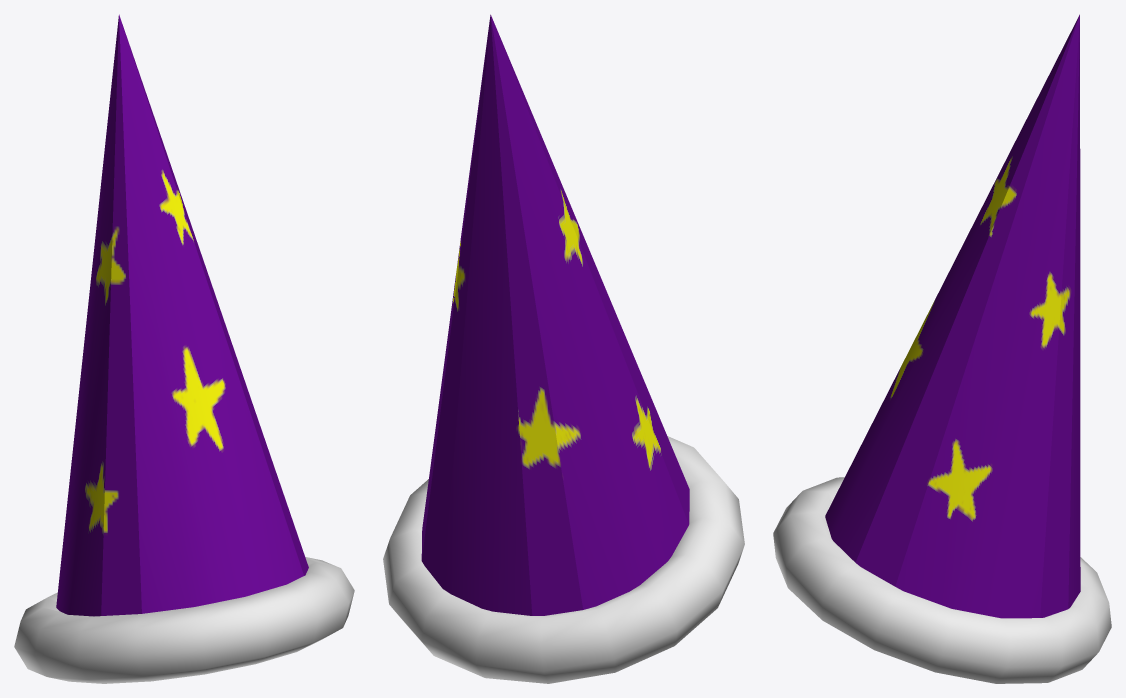
Rendered from hat.glb.
3 renders of one model, left to right at view 1: azimuth 30°, elevation 25°; view 2: azimuth 150°, elevation 25°; view 3: azimuth 270°, elevation 25°, orthographic. The views are drawn at different scales.
Visible parts, largest first — view 1: Cube.001; view 2: Cube.001; view 3: Cube.001.
Part boxes in pixels (x1,y1,x2,y2): Cube.001: (14,14,354,683); Cube.001: (383,14,744,683); Cube.001: (773,14,1111,683).
Bounding box in the file's own units: 0.4256 × 0.8426 × 0.407.
Materials: 2 (1 with a texture image).
